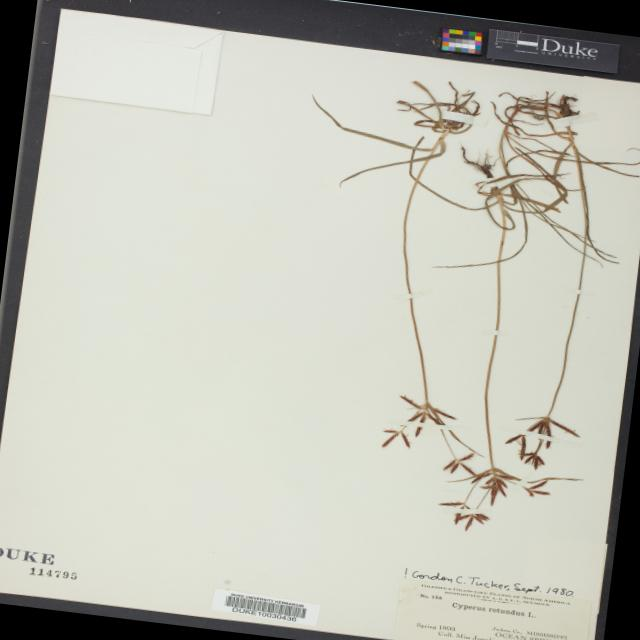cyperus: (342, 376, 609, 561)
